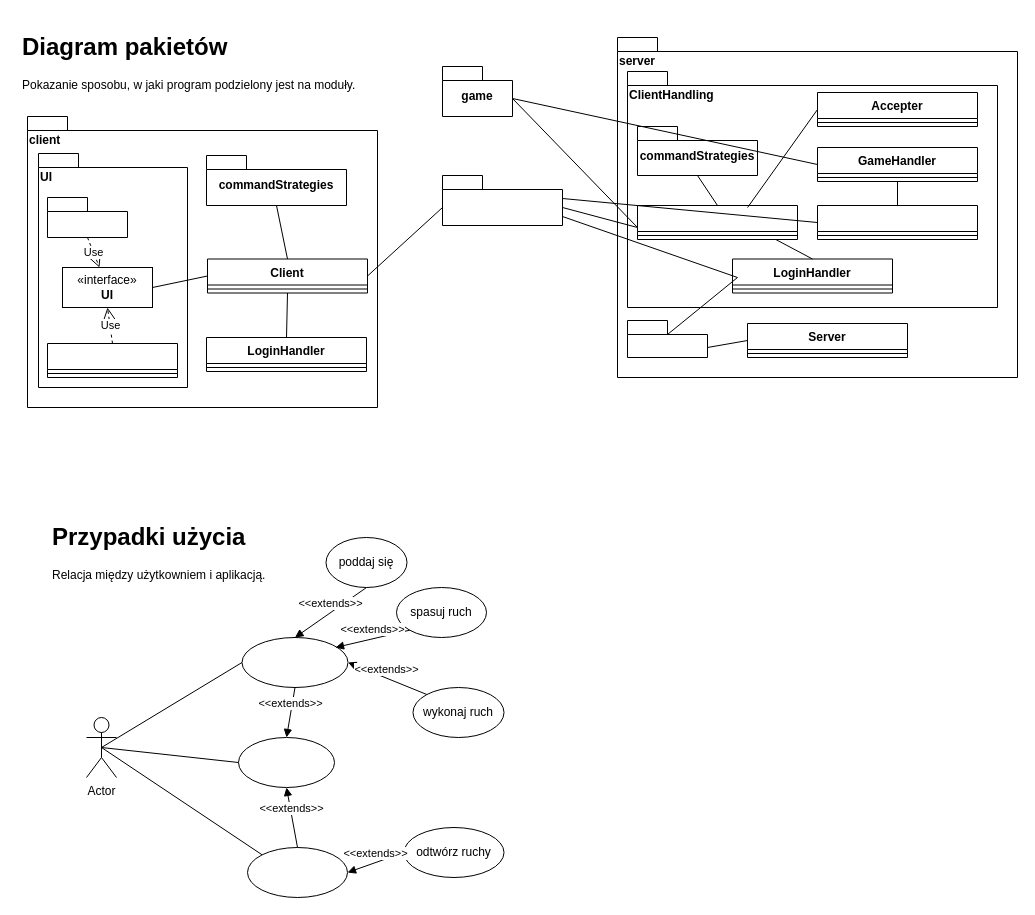
Some shapes in this 1035 by 915 pixel diagram are drawn without their labels. Each missing label, with the centre of its shape:
ClientHandler: the point at 717,222
communications: the point at 502,200
ConsoleUI: the point at 112,360
DB: the point at 667,339
GUI: the point at 87,217
Pairer: the point at 897,222
rozpocznij grę: the point at 294,662
wczytaj grę: the point at 297,872
zaloguj się: the point at 286,762
